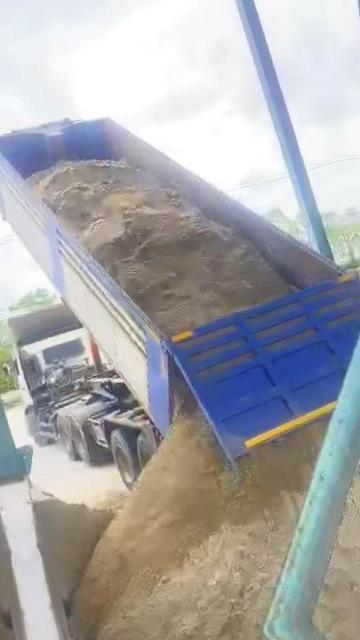sand: (74, 406, 324, 640), (31, 160, 293, 334), (317, 399, 360, 618), (34, 493, 112, 602), (96, 491, 128, 515)
